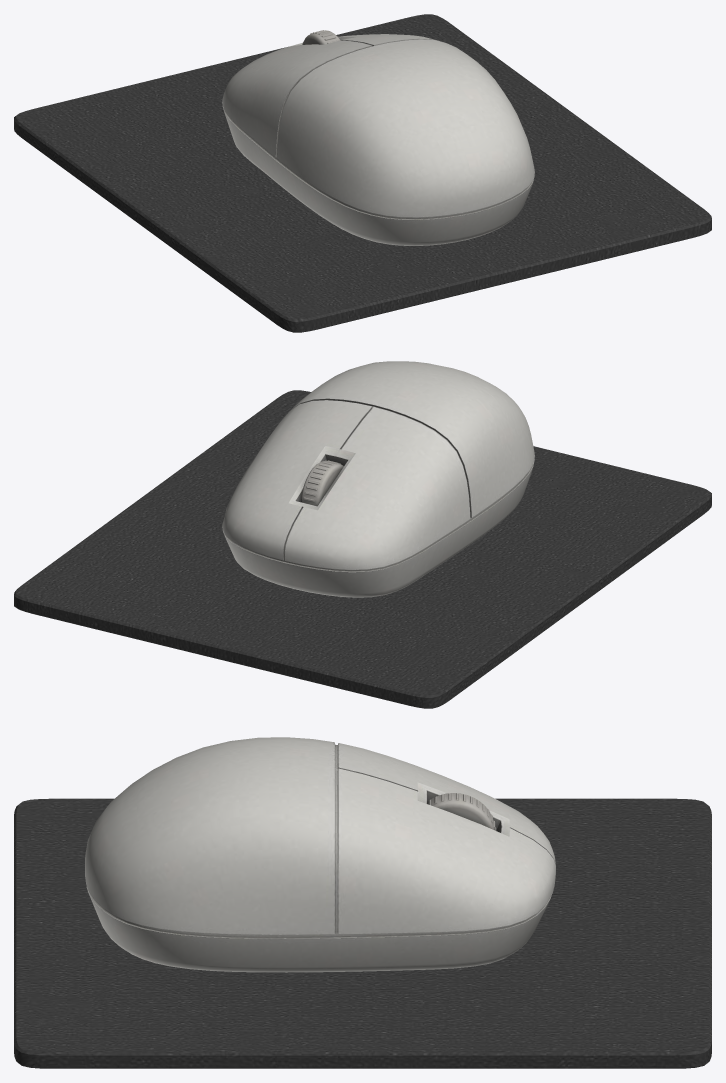
The model's file is Mouse.fbx.
3 views of the same model, one above another, from view 1: azimuth 30°, elevation 25°; view 2: azimuth 150°, elevation 25°; view 3: azimuth 270°, elevation 25° (orthographic). The views are drawn at different scales.
Parts seen in each view (by area): view 1: MousePad, Mouse; view 2: MousePad, Mouse; view 3: MousePad, Mouse.
Boxes of the visible parts, <box> form: MousePad: <box>14,14,711,332</box>; Mouse: <box>222,30,534,245</box>; MousePad: <box>14,390,711,708</box>; Mouse: <box>222,361,534,597</box>; MousePad: <box>14,798,711,1068</box>; Mouse: <box>85,737,555,972</box>.
Bounding box in the file's own units: 13 × 4.3 × 15.
1 material, 1 textured.
